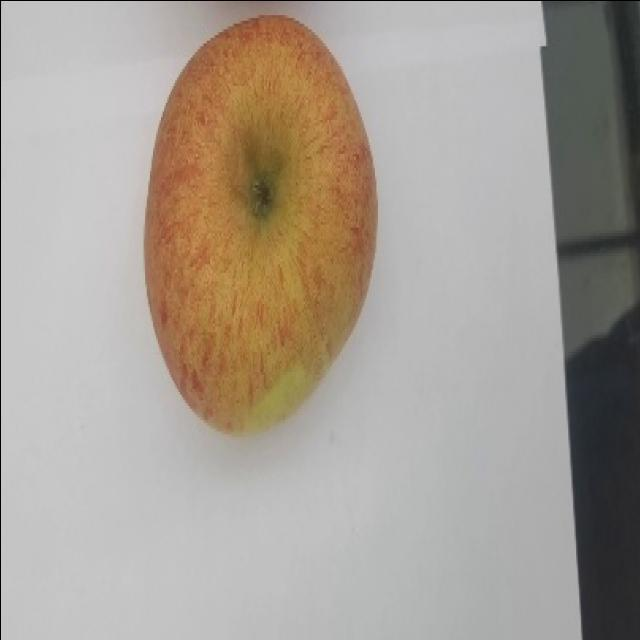Apple: (136, 0, 380, 449)
